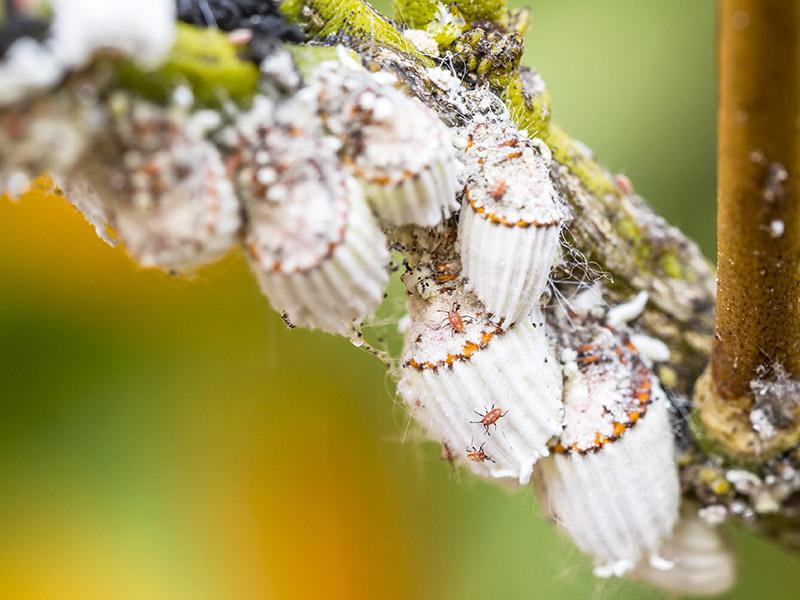Mealy_bug: (214, 57, 566, 293), (406, 309, 683, 547)
